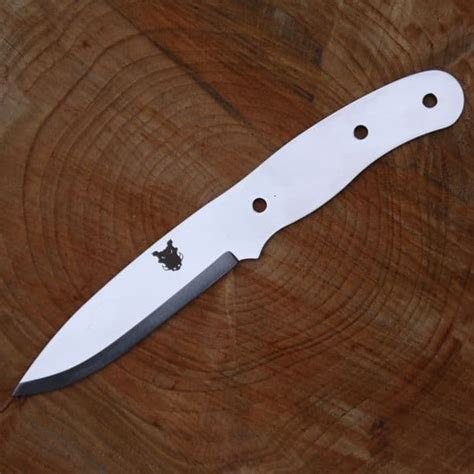knife: (9, 65, 465, 400)
